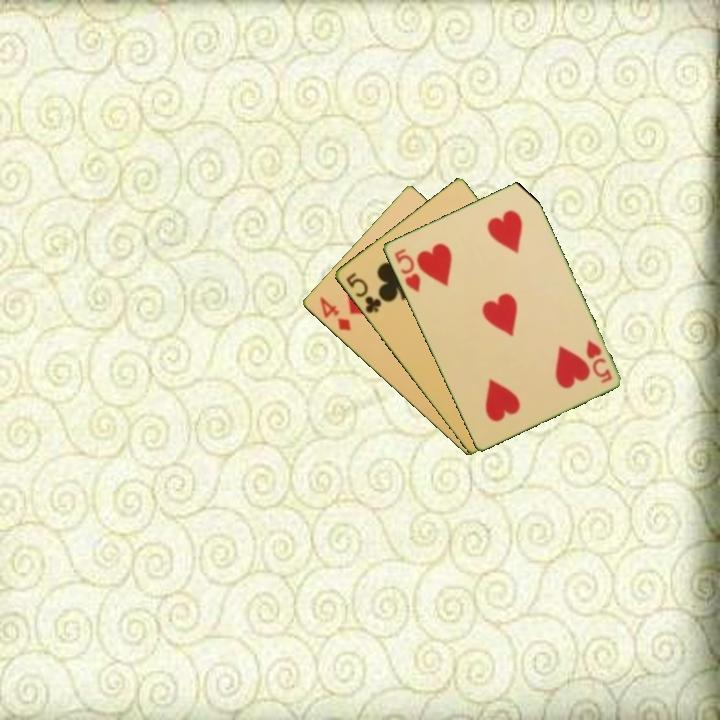4d: (315, 293, 354, 334)
5c: (342, 269, 384, 316)
5h: (390, 245, 423, 295), (582, 336, 615, 386)
